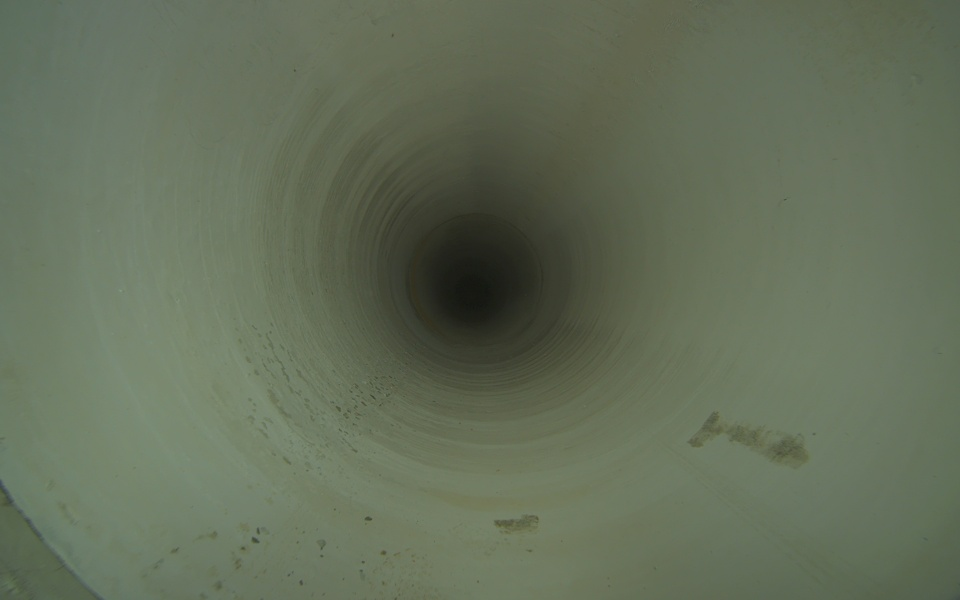circle1: (404, 209, 546, 352)
circle2: (456, 273, 495, 312)
